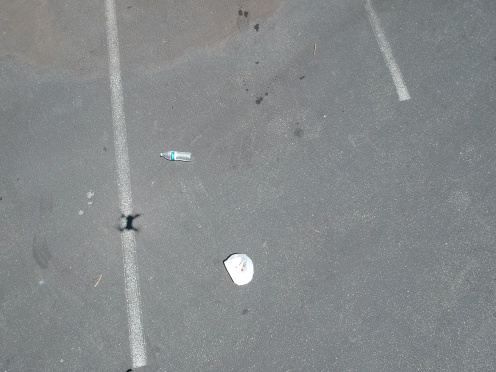bottle: (153, 147, 197, 166)
plastic bag: (218, 251, 258, 286)
